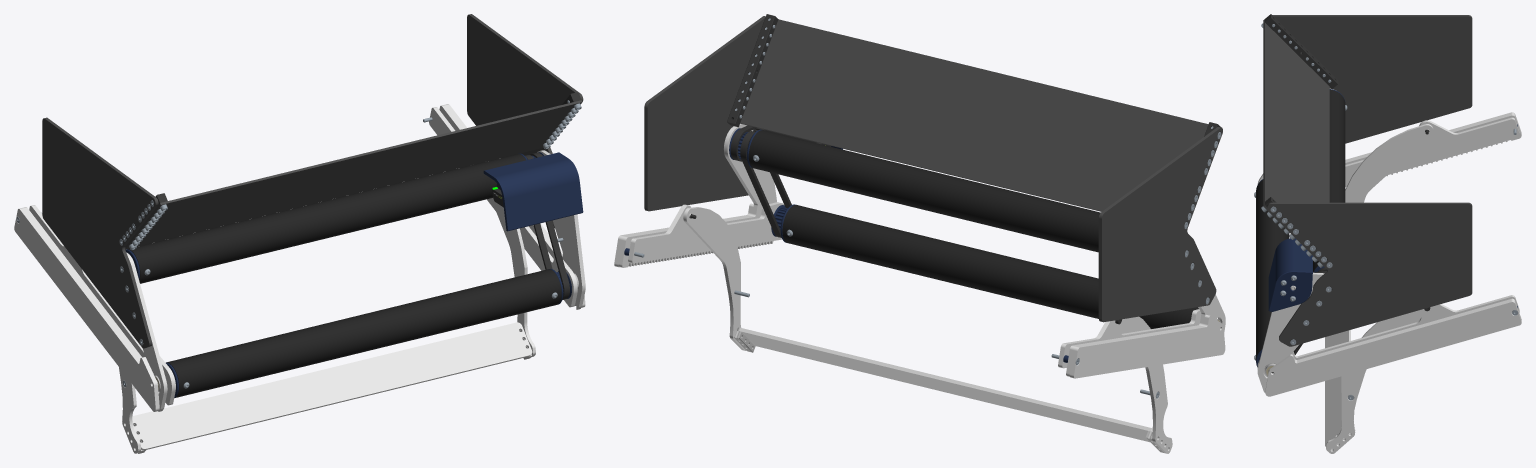
3 views of the same model, side by side, from view 1: azimuth 30°, elevation 25°; view 2: azimuth 150°, elevation 25°; view 3: azimuth 270°, elevation 25° (orthographic). The views are drawn at different scales.
Visible parts, largest first — view 1: Intake 012, Intake 007, Part 35, Part 36, Intake 010, Intake 011, 26INT-0002, Intake 008, Rack (50 teeth) (×2), Intake 005 (×2), Intake 006, 90t 5mm Belt (+1 smaller); view 2: Intake 012, Intake 010, Part 36, Part 35, Intake 011, Intake 007, Intake 008, Intake 005 (×2), Rack (50 teeth) (×2), Intake 006, Intake 009, Nut Strip (1/2" Square ,6" , #10-32 Tapped, Alternating .5"  (+1 smaller); view 3: Intake 011, Intake 010, Intake 012, Intake 004, Intake 005 (×2), Rack (50 teeth) (×2), Intake 009, 26INT-0002, Part 35, Intake 006, Part 36, Intake 007 (+2 smaller).
Boxes of the visible parts, bbox=[...] form: Intake 012: bbox=[125, 100, 582, 249]; Intake 007: bbox=[132, 322, 532, 450]; Part 35: bbox=[166, 269, 561, 397]; Part 36: bbox=[128, 154, 525, 283]; Intake 010: bbox=[42, 117, 158, 348]; Intake 011: bbox=[467, 14, 583, 227]; 26INT-0002: bbox=[483, 152, 583, 231]; Intake 008: bbox=[14, 208, 159, 411]; Rack (50 teeth) (×2): bbox=[23, 105, 585, 411]; Intake 005 (×2): bbox=[29, 107, 577, 405]; Intake 006: bbox=[491, 198, 535, 357]; 90t 5mm Belt: bbox=[525, 155, 569, 299]; Intake 012: bbox=[740, 19, 1208, 211]; Intake 010: bbox=[1098, 127, 1222, 322]; Part 36: bbox=[748, 130, 1100, 252]; Part 35: bbox=[782, 205, 1198, 328]; Intake 011: bbox=[644, 16, 765, 211]; Intake 007: bbox=[737, 327, 1152, 442]; Intake 008: bbox=[1069, 314, 1225, 378]; Intake 005 (×2): bbox=[628, 202, 1217, 368]; Rack (50 teeth) (×2): bbox=[618, 123, 1225, 376]; Intake 006: bbox=[683, 207, 745, 350]; Intake 009: bbox=[1120, 316, 1172, 453]; Nut Strip (1/2" Square ,6" , #10-32 Tapped, Alternating .5" : bbox=[727, 14, 778, 127]; Intake 011: bbox=[1267, 202, 1472, 346]; Intake 010: bbox=[1272, 15, 1472, 143]; Intake 012: bbox=[1263, 19, 1329, 269]; Intake 004: bbox=[1265, 300, 1521, 396]; Intake 005 (×2): bbox=[1257, 117, 1519, 376]; Rack (50 teeth) (×2): bbox=[1257, 88, 1521, 392]; Intake 009: bbox=[1345, 124, 1433, 202]; 26INT-0002: bbox=[1268, 238, 1312, 311]; Part 35: bbox=[1256, 180, 1289, 359]; Intake 006: bbox=[1326, 310, 1421, 453]; Part 36: bbox=[1313, 89, 1345, 272]; Intake 007: bbox=[1325, 330, 1350, 446].
Bounding box in the file's own units: 0.6884 × 0.438 × 0.4081.
